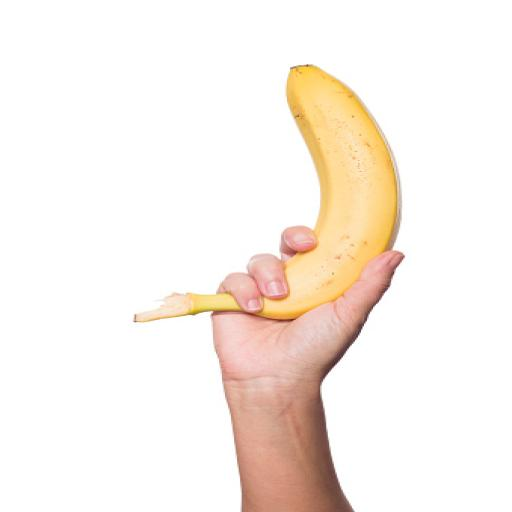banana: (257, 66, 400, 318)
